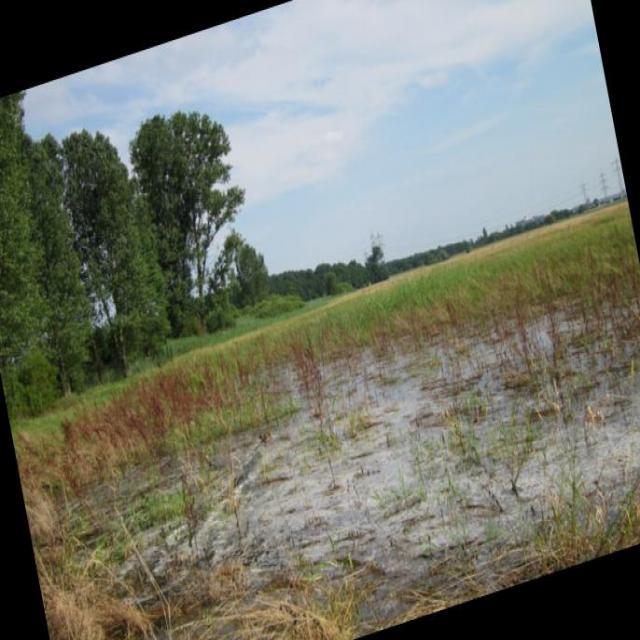flood: (74, 254, 639, 639)
